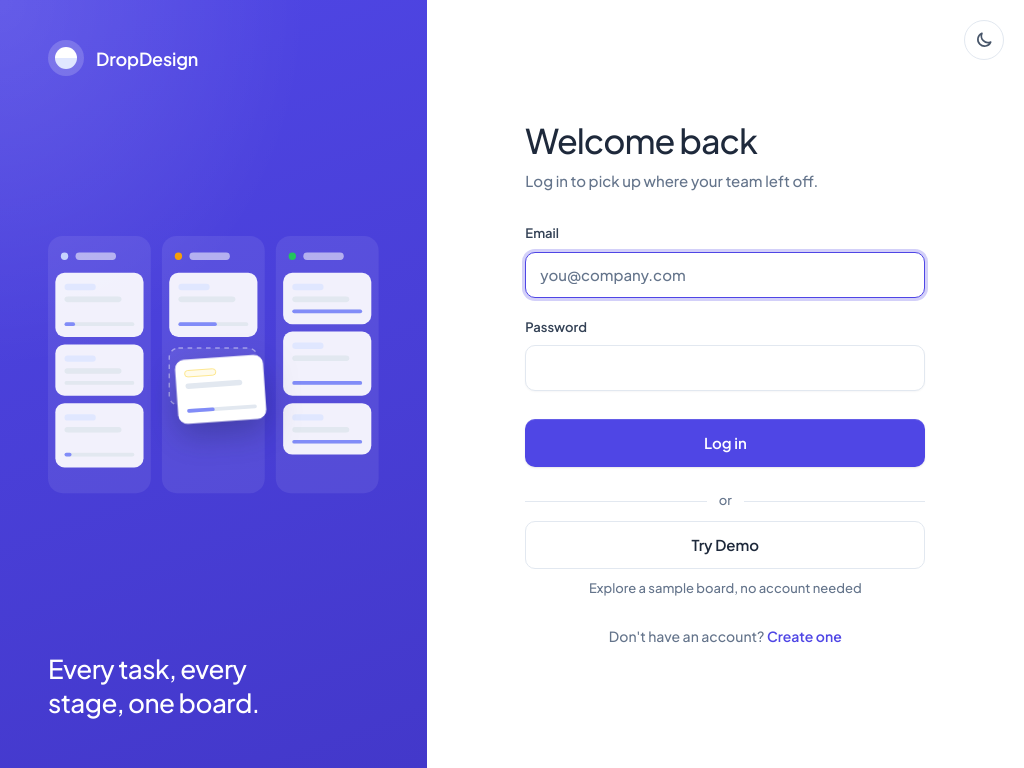
Test case: AuthPage: Try Demo › explains when the demo is not available
Click the button "Try Demo": click(725, 545) [525,521,925,569]
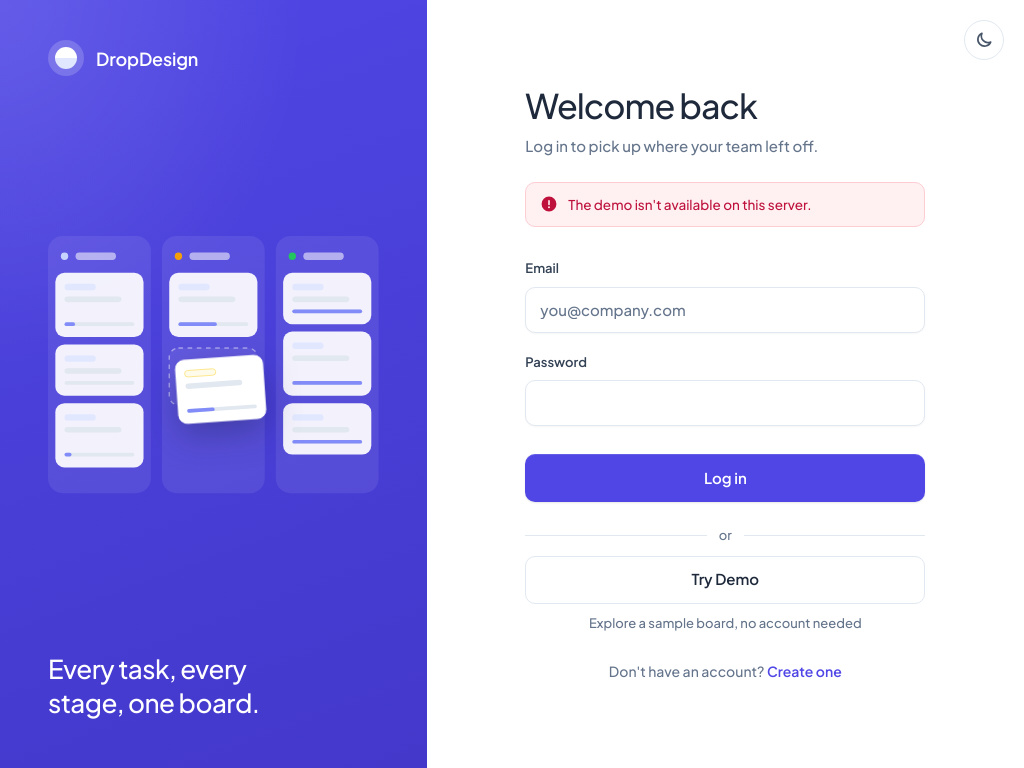
Expected: the button "Try Demo" is enabled, [525,556,925,604]
Expected: the message reads "The demo isn't available on this server.", [568,196,812,212]
